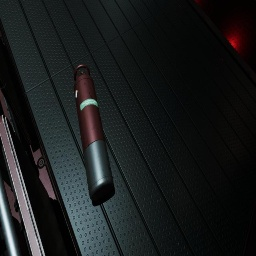NitrogenTank ,: (74, 64, 114, 200)
